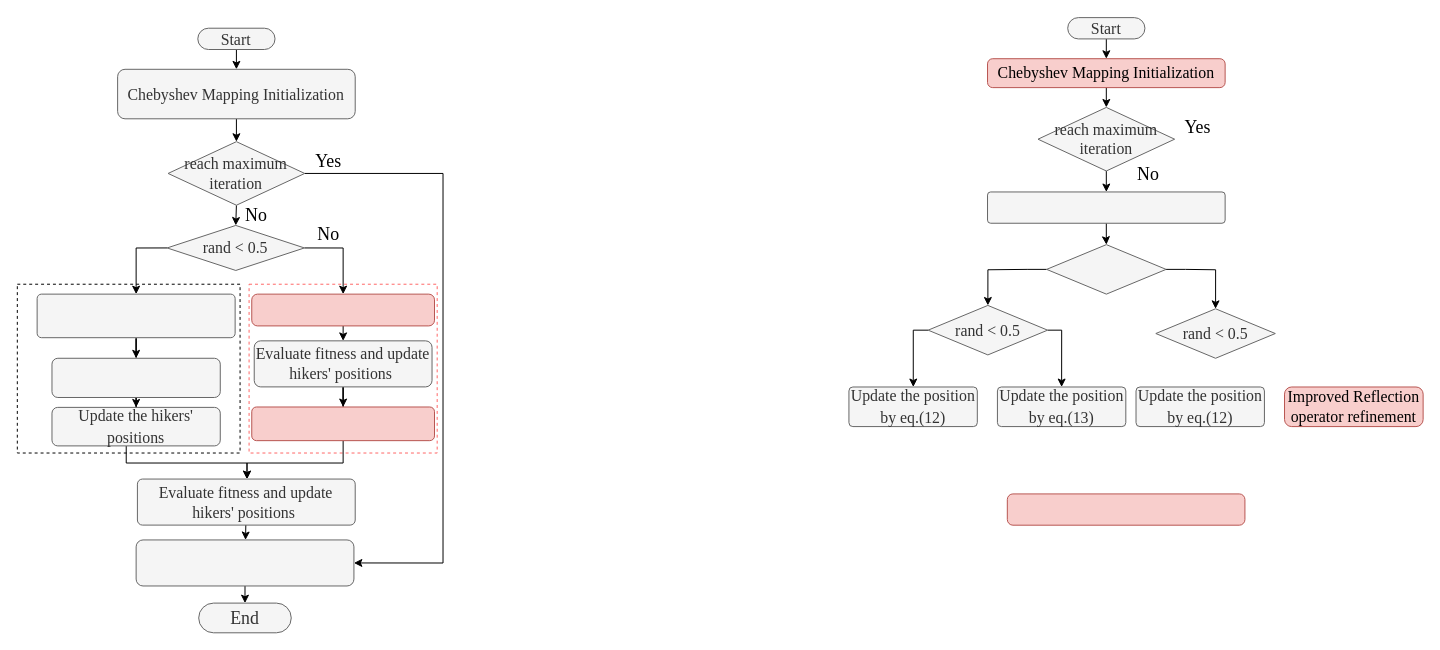
The diagram is 1440 pixels wide and 650 high, and some of its shapes have lost their labels. Each missing label, with the centre of its shape:
Alert mechanism: the point at 343,423
Calculate and update fitness values and best solutions: the point at 244,562
Calculate the terrain gradient and hikers' speed: the point at 135,315
Generalized Quadratic Interpolation: the point at 1125,509
k1 < 0.5: the point at 1106,269
Quadratic interpolation: the point at 343,309
Update the hikers' velocities: the point at 135,377
Update the judgement criterion k1: the point at 1106,207
